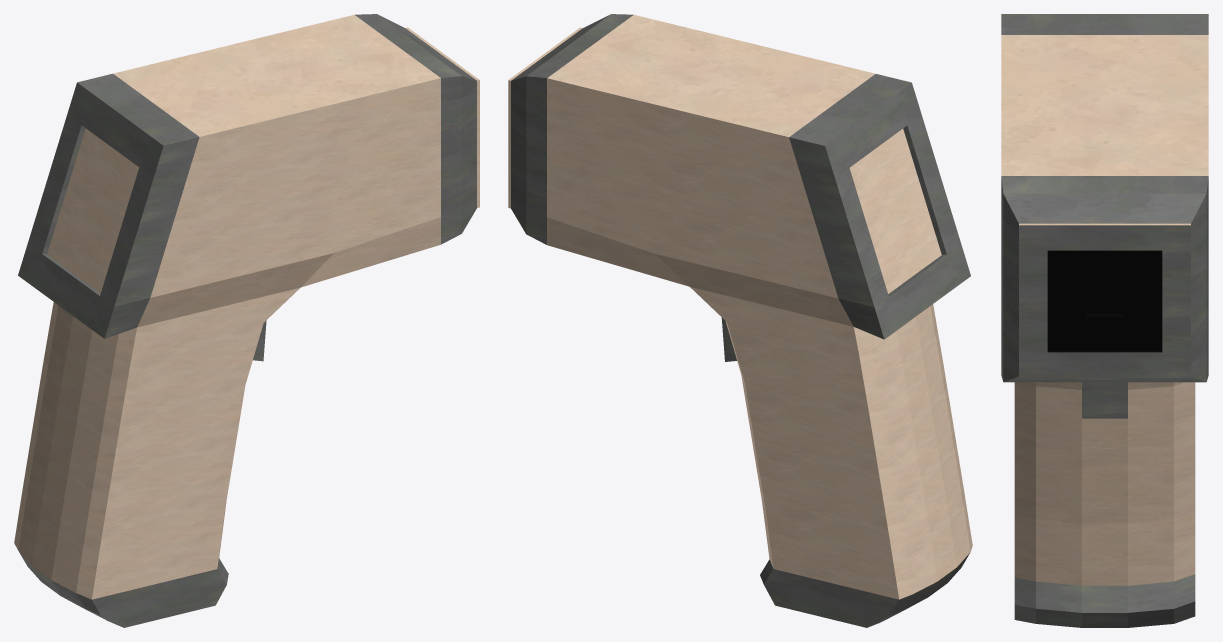
File: thermometer.fbx
3 views of the same model, side by side, from view 1: azimuth 30°, elevation 25°; view 2: azimuth 150°, elevation 25°; view 3: azimuth 270°, elevation 25° (orthographic). The views are drawn at different scales.
Visible parts, largest first — view 1: Cube; view 2: Cube; view 3: Cube.
Boxes of the visible parts, <box> form: Cube: <box>14,14,479,627</box>; Cube: <box>508,14,972,627</box>; Cube: <box>1001,14,1208,627</box>.
Bounding box in the file's own units: 211 × 239 × 78.54.
3 materials, 2 textured.
